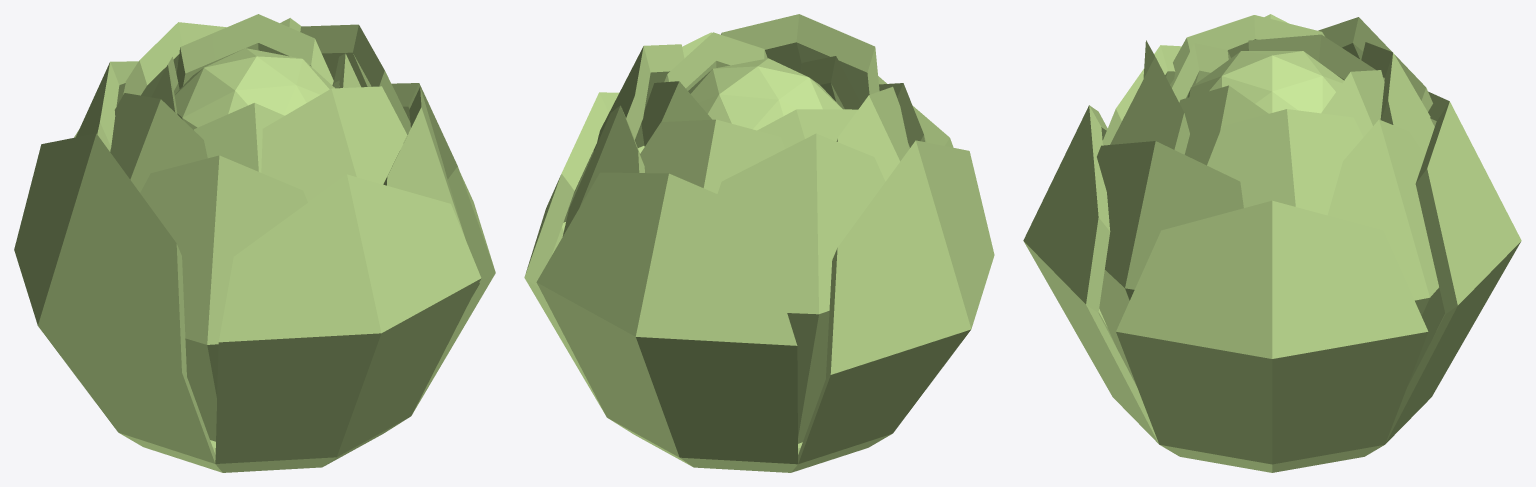
The model's file is lettuce.fbx.
3 views of the same model, side by side, from view 1: azimuth 30°, elevation 25°; view 2: azimuth 150°, elevation 25°; view 3: azimuth 270°, elevation 25° (orthographic). The views are drawn at different scales.
Visible parts, largest first — view 1: Cabbage_Circle.013; view 2: Cabbage_Circle.013; view 3: Cabbage_Circle.013.
Boxes of the visible parts, x1,y1,x2,y2 form: Cabbage_Circle.013: (14,14,495,472); Cabbage_Circle.013: (524,14,994,472); Cabbage_Circle.013: (1023,14,1521,472).
Bounding box in the file's own units: 1136 × 962 × 1127.
